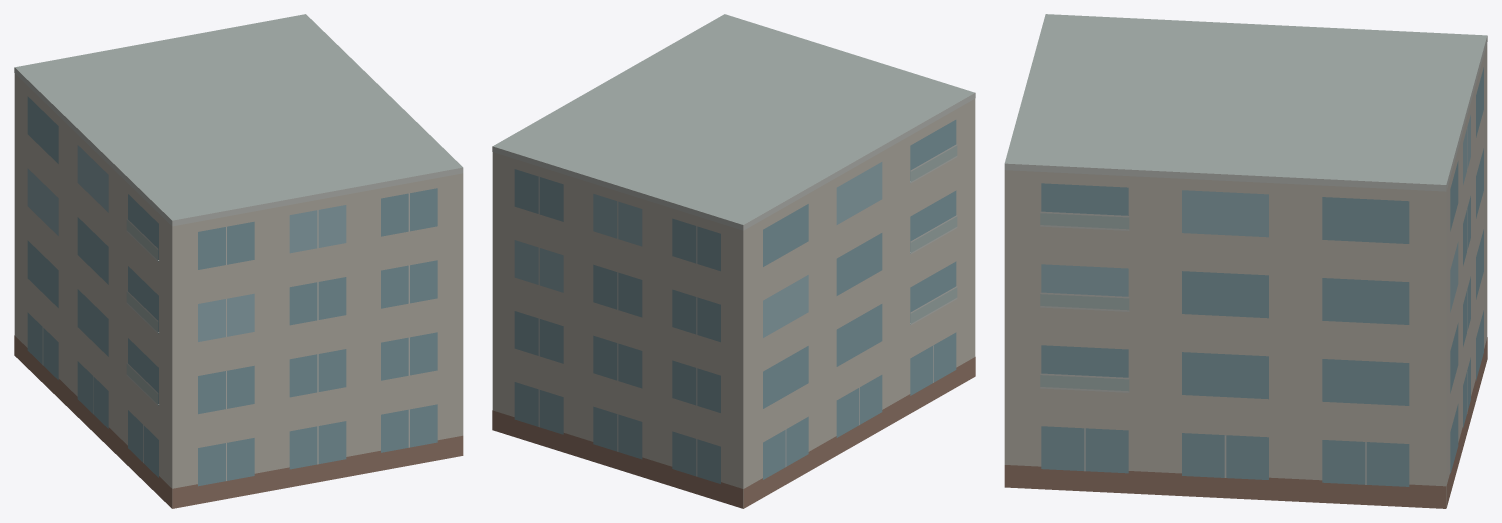
Rendered from survey-upis-32777633.glb.
3 renders of one model, left to right at view 1: azimuth 30°, elevation 25°; view 2: azimuth 150°, elevation 25°; view 3: azimuth 270°, elevation 25°, orthographic. The views are drawn at different scales.
Parts seen in each view (by area): view 1: survey-upis-32777633.tmp; view 2: survey-upis-32777633.tmp; view 3: survey-upis-32777633.tmp.
Part boxes in pixels (x1,y1,x2,y2): survey-upis-32777633.tmp: (14,14,463,508); survey-upis-32777633.tmp: (492,14,975,508); survey-upis-32777633.tmp: (1004,14,1487,508).
Size of the model in its own units: 13.83 by 12.2 by 16.5.
